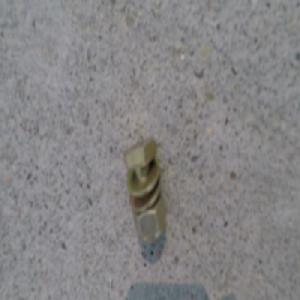BoltNutSet: (125, 137, 166, 241)
